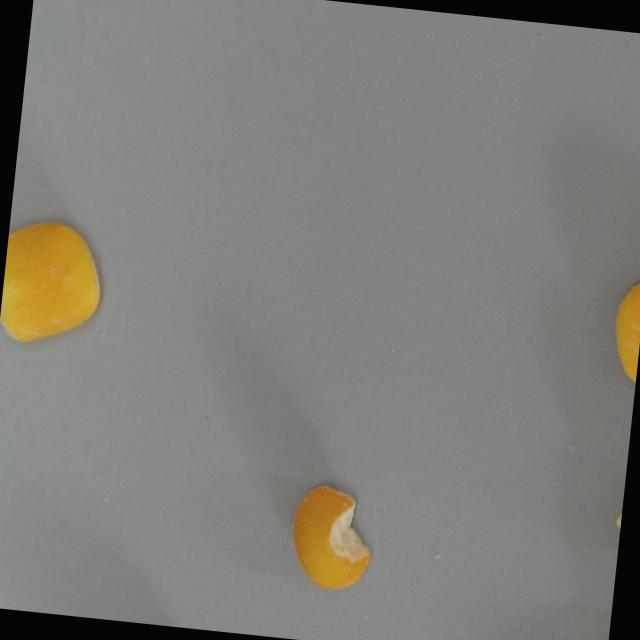no_canjicado: (0, 219, 105, 343)
pelicula: (283, 481, 377, 594), (607, 269, 640, 388)
